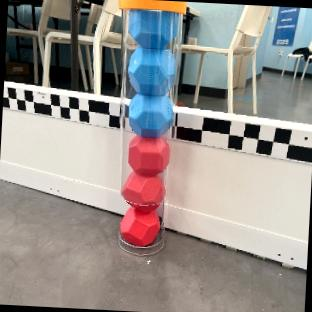Loader: (115, 0, 186, 254)
V5_BLUE: (127, 46, 174, 95), (128, 8, 177, 48), (128, 92, 172, 135)
V5_RED: (126, 133, 169, 175), (121, 170, 165, 210), (119, 205, 161, 246)
